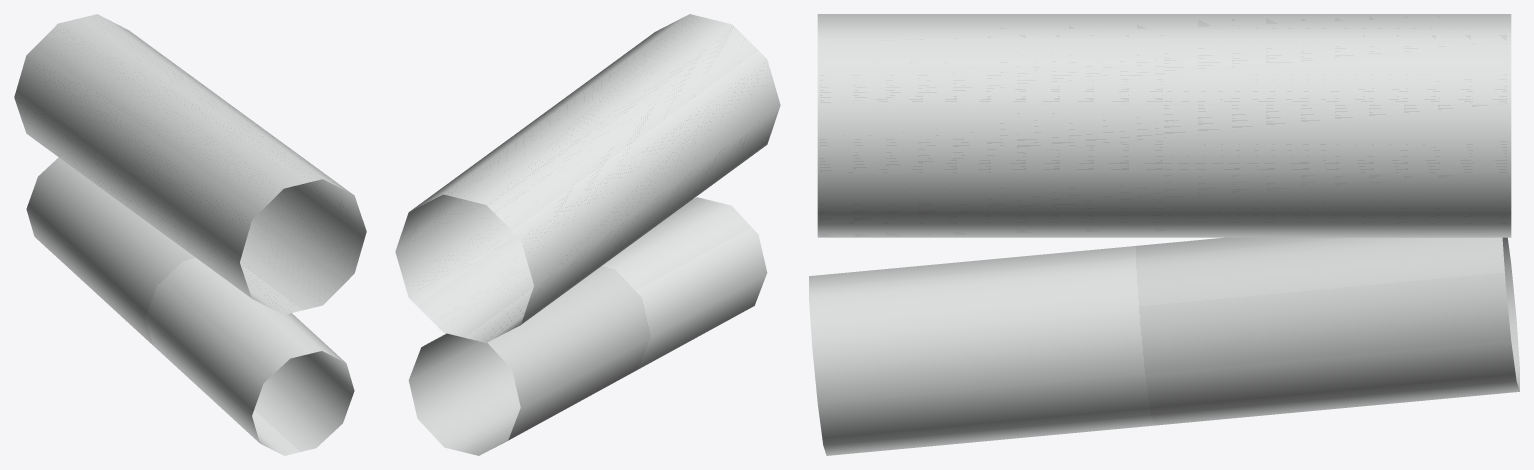
Rendered from trusssignalarm_level12_c15.obj.
The picture shows the model from 3 angles, left to right: view 1: azimuth 30°, elevation 25°; view 2: azimuth 150°, elevation 25°; view 3: azimuth 270°, elevation 25°; orthographic projection. The views are drawn at different scales.
Parts seen in each view (by area): view 1: trusssignalarm_level12_c15; view 2: trusssignalarm_level12_c15; view 3: trusssignalarm_level12_c15.
Part boxes in pixels (box(x1,y1,x2,y2)): trusssignalarm_level12_c15: box(14, 14, 366, 455); trusssignalarm_level12_c15: box(395, 14, 780, 455); trusssignalarm_level12_c15: box(809, 14, 1519, 455).
Bounding box in the file's own units: 0.325 × 0.661 × 1.03.
